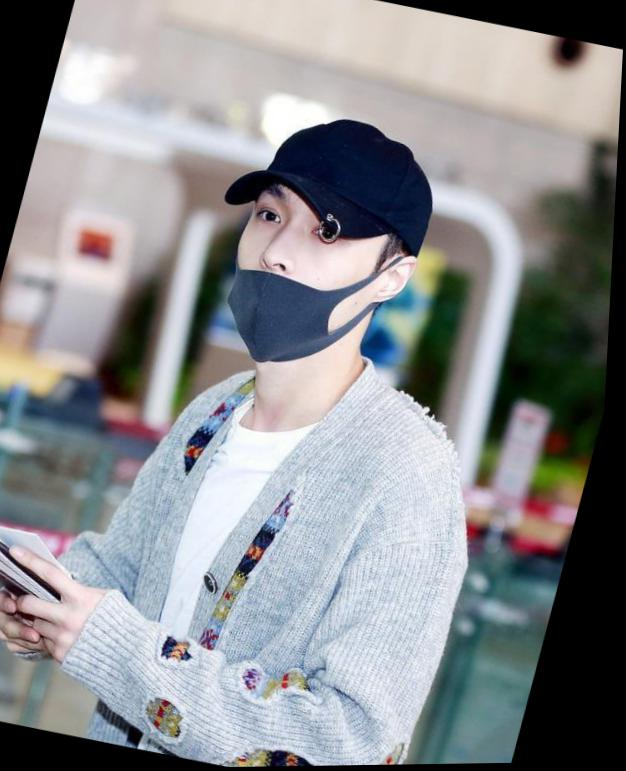WRONG: (211, 165, 383, 378)
